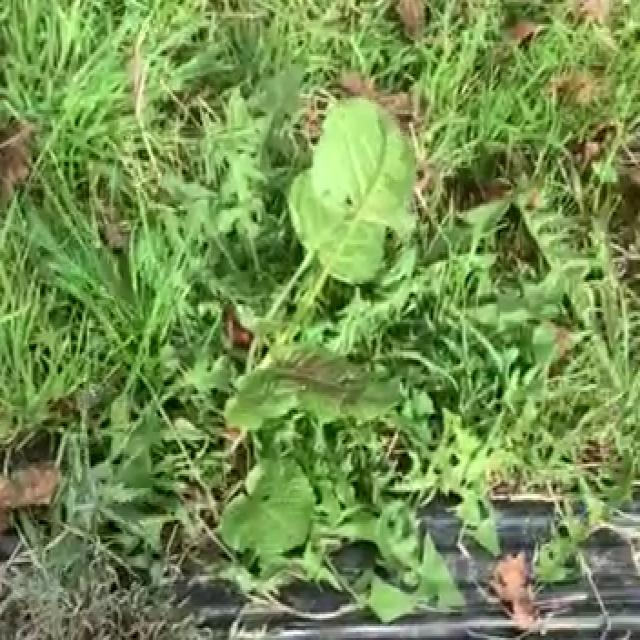organic waste: (184, 78, 504, 630)
